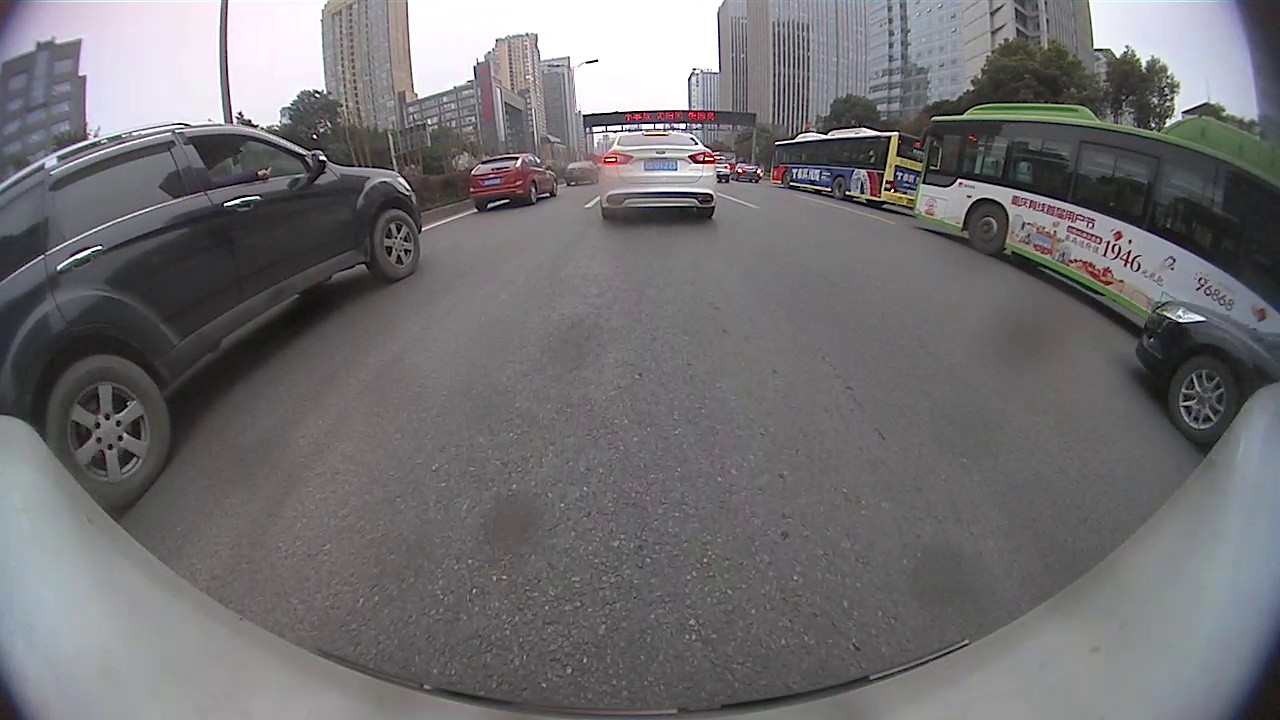bus: (912, 102, 1279, 344), (770, 126, 929, 210)
car: (1, 120, 425, 520), (1133, 299, 1279, 451), (598, 128, 719, 223), (467, 152, 561, 214), (563, 160, 601, 188)
front: (1166, 354, 1234, 447), (372, 207, 424, 281), (961, 197, 1010, 258), (782, 173, 794, 189)
rear: (38, 352, 175, 514), (525, 182, 541, 208), (833, 175, 849, 199)
